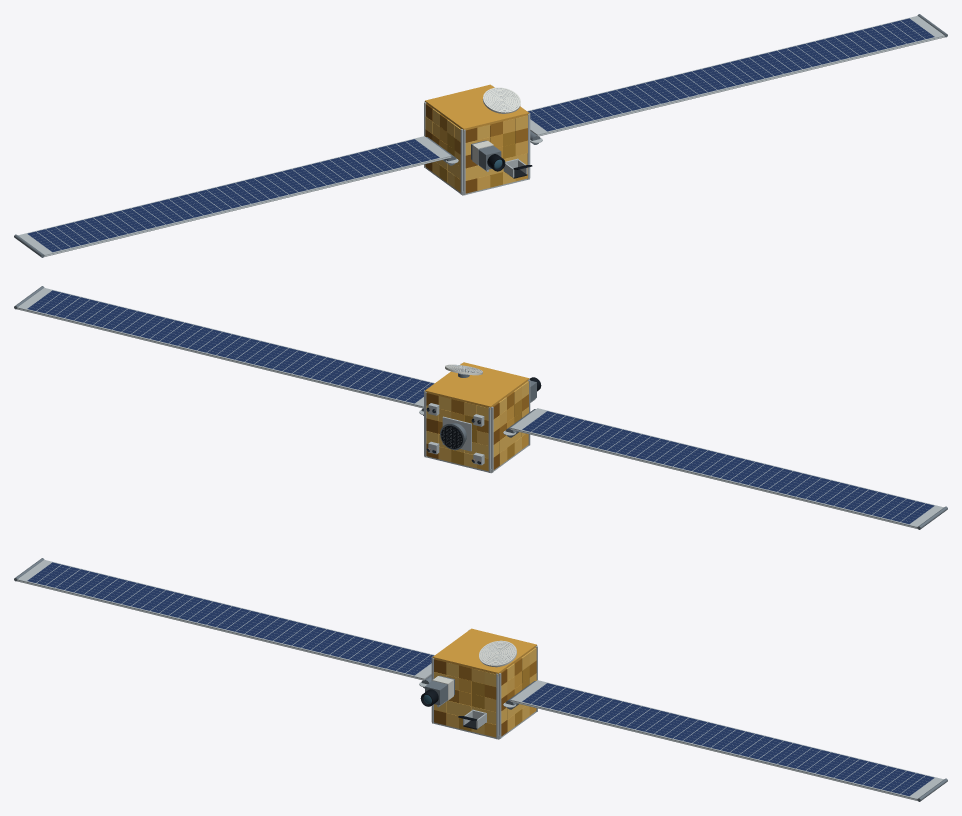
File: dart.glb
3 renders of one model, top to bottom at view 1: azimuth 30°, elevation 25°; view 2: azimuth 150°, elevation 25°; view 3: azimuth 330°, elevation 25°, orthographic.
Visible parts, largest first — view 1: dart_rosa_l.deployment.blanket.cells.mesh_Indigo_solar_cells, dart_rosa_r.deployment.blanket.cells.mesh_Indigo_solar_cells, dart_rosa_l.deployment.blanket.cells.mesh_Satin_aluminum, dart_rosa_r.deployment.blanket.cells.mesh_Satin_aluminum, dart_bus.mesh_Gold_thermal_insulation, dart_bus.blanket_01.mesh_Foil_facet_4, dart_rlsa.azimuth.elevation.mesh_Pale_thermal_blanket, dart_rosa_r.deployment.blanket.mesh_Satin_aluminum, dart_rosa_l.deployment.blanket.mesh_Satin_aluminum, dart_bus.blanket_04.mesh_Foil_facet_4, dart_bus.blanket_01.mesh_Foil_facet_6; view 2: dart_rosa_l.deployment.blanket.cells.mesh_Indigo_solar_cells, dart_rosa_r.deployment.blanket.cells.mesh_Indigo_solar_cells, dart_rosa_l.deployment.blanket.cells.mesh_Satin_aluminum, dart_rosa_r.deployment.blanket.cells.mesh_Satin_aluminum, dart_bus.mesh_Gold_thermal_insulation, dart_bus.blanket_03.mesh_Foil_facet_4, dart_bus.blanket_04.mesh_Foil_facet_4, dart_rosa_r.deployment.blanket.mesh_Satin_aluminum, dart_rosa_l.deployment.blanket.mesh_Satin_aluminum, dart_bus.blanket_03.mesh_Foil_facet_6; view 3: dart_rosa_r.deployment.blanket.cells.mesh_Indigo_solar_cells, dart_rosa_l.deployment.blanket.cells.mesh_Indigo_solar_cells, dart_rosa_r.deployment.blanket.cells.mesh_Satin_aluminum, dart_rosa_l.deployment.blanket.cells.mesh_Satin_aluminum, dart_bus.mesh_Gold_thermal_insulation, dart_bus.blanket_01.mesh_Foil_facet_4, dart_rlsa.azimuth.elevation.mesh_Pale_thermal_blanket, dart_rosa_l.deployment.blanket.mesh_Satin_aluminum, dart_rosa_r.deployment.blanket.mesh_Satin_aluminum, dart_bus.blanket_02.mesh_Foil_facet_4, dart_bus.blanket_01.mesh_Foil_facet_6.
Part boxes in pixels (box(x1,y1,x2,y2)): dart_rosa_l.deployment.blanket.cells.mesh_Indigo_solar_cells: box(27, 139, 439, 252); dart_rosa_r.deployment.blanket.cells.mesh_Indigo_solar_cells: box(528, 18, 934, 131); dart_rosa_l.deployment.blanket.cells.mesh_Satin_aluminum: box(18, 136, 451, 255); dart_rosa_r.deployment.blanket.cells.mesh_Satin_aluminum: box(527, 16, 944, 135); dart_bus.mesh_Gold_thermal_insulation: box(425, 84, 529, 131); dart_bus.blanket_01.mesh_Foil_facet_4: box(465, 115, 527, 184); dart_rlsa.azimuth.elevation.mesh_Pale_thermal_blanket: box(482, 87, 520, 113); dart_rosa_r.deployment.blanket.mesh_Satin_aluminum: box(537, 36, 944, 136); dart_rosa_l.deployment.blanket.mesh_Satin_aluminum: box(44, 157, 451, 256); dart_bus.blanket_04.mesh_Foil_facet_4: box(425, 108, 460, 187); dart_bus.blanket_01.mesh_Foil_facet_6: box(477, 118, 527, 190); dart_rosa_l.deployment.blanket.cells.mesh_Indigo_solar_cells: box(522, 411, 934, 524); dart_rosa_r.deployment.blanket.cells.mesh_Indigo_solar_cells: box(27, 290, 433, 403); dart_rosa_l.deployment.blanket.cells.mesh_Satin_aluminum: box(510, 408, 943, 527); dart_rosa_r.deployment.blanket.cells.mesh_Satin_aluminum: box(17, 288, 434, 407); dart_bus.mesh_Gold_thermal_insulation: box(425, 362, 529, 409); dart_bus.blanket_03.mesh_Foil_facet_4: box(426, 396, 488, 468); dart_bus.blanket_04.mesh_Foil_facet_4: box(493, 381, 528, 457); dart_rosa_r.deployment.blanket.mesh_Satin_aluminum: box(17, 308, 423, 408); dart_rosa_l.deployment.blanket.mesh_Satin_aluminum: box(510, 429, 917, 528); dart_bus.blanket_03.mesh_Foil_facet_6: box(438, 402, 488, 461); dart_rosa_r.deployment.blanket.cells.mesh_Indigo_solar_cells: box(522, 683, 934, 796); dart_rosa_l.deployment.blanket.cells.mesh_Indigo_solar_cells: box(27, 562, 433, 675); dart_rosa_r.deployment.blanket.cells.mesh_Satin_aluminum: box(510, 680, 943, 799); dart_rosa_l.deployment.blanket.cells.mesh_Satin_aluminum: box(17, 560, 434, 679); dart_bus.mesh_Gold_thermal_insulation: box(432, 628, 536, 675); dart_bus.blanket_01.mesh_Foil_facet_4: box(434, 662, 496, 734); dart_rlsa.azimuth.elevation.mesh_Pale_thermal_blanket: box(479, 640, 516, 667); dart_rosa_l.deployment.blanket.mesh_Satin_aluminum: box(17, 580, 424, 680); dart_rosa_r.deployment.blanket.mesh_Satin_aluminum: box(510, 701, 917, 800); dart_bus.blanket_02.mesh_Foil_facet_4: box(501, 647, 536, 723); dart_bus.blanket_01.mesh_Foil_facet_6: box(446, 668, 496, 728).
Bounding box in the file's own units: 17.71 × 1.49 × 2.21.
